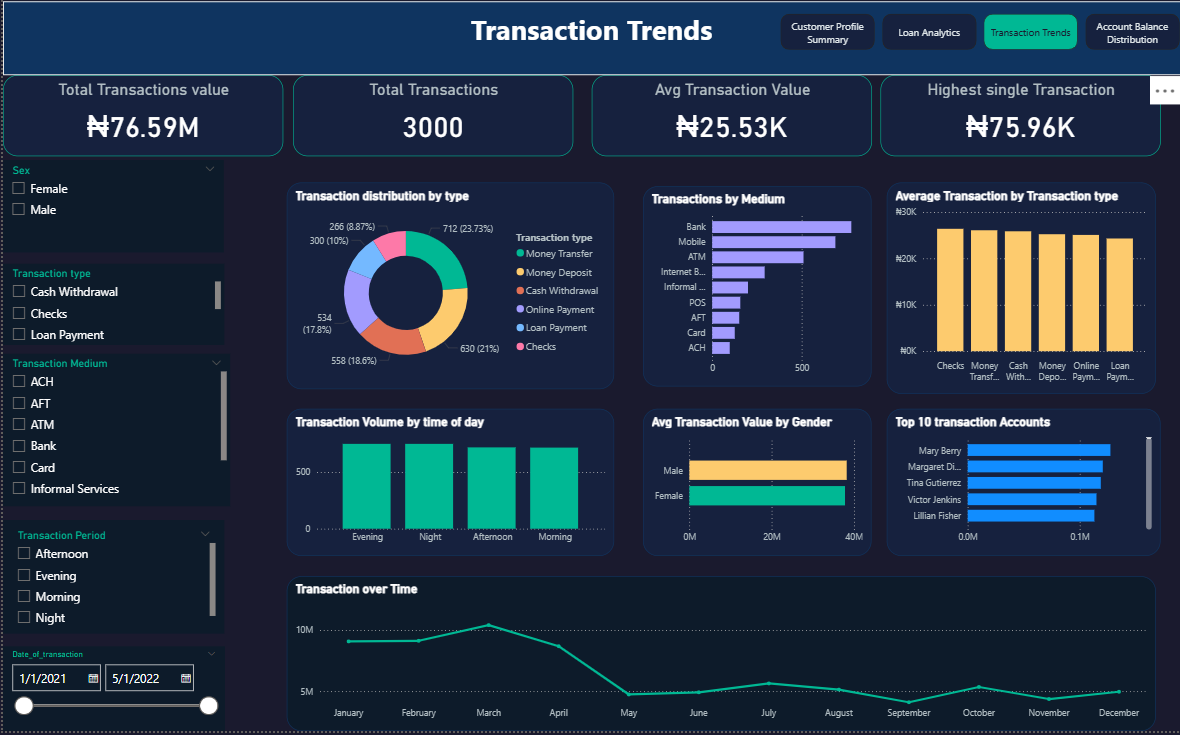

Layout of this report page (visuals, bound fields, positions):
{"tool":"powerbi","page":{"name":"Transaction Trends","canvas":[1600,1000],"ordinal":2},"visuals":[{"type":"card","title":"Total Transactions value","fields":{"Values":["Transaction.Total Transaction Amount"]},"box":[0,108.5,380.9,110.6],"z":0},{"type":"card","title":"Total Transactions","fields":{"Values":["Transaction.Number of Transactions"]},"box":[393.6,108.5,380.9,110.6],"z":1000},{"type":"card","title":"Avg Transaction Value","fields":{"Values":["Transaction.Average Transaction"]},"box":[800,108.5,380.9,110.6],"z":2000},{"type":"card","title":"Highest single Transaction","fields":{"Values":["Transaction.Highest Transaction"]},"box":[1191.5,108.5,380.9,110.6],"z":3000},{"type":"donutChart","title":"Transaction distribution by type","fields":{"Category":["Transaction.Transaction type"],"Y":["CountNonNull(Transaction.Transaction_id)"]},"box":[385.1,255.3,444.7,280.9],"z":4000},{"type":"clusteredBarChart","title":"Transactions by Medium","fields":{"Category":["Transaction.Transaction Medium"],"Y":["CountNonNull(Transaction.Transaction_id)"]},"box":[870.2,259.6,310.6,272.3],"z":5000},{"type":"clusteredColumnChart","title":"Transaction Volume by time of day","fields":{"Category":["Transaction time.Transaction Period"],"Y":["CountNonNull(Transaction.Transaction_id)"]},"box":[385.1,561.7,444.7,200],"z":6000},{"type":"barChart","title":"Avg Transaction Value by Gender","fields":{"Category":["Customer.Sex"],"Y":["Sum(Transaction.Amount)"]},"box":[870.2,561.7,310.6,200],"z":7000},{"type":"lineChart","title":"Transaction over  Time","fields":{"Category":["Transaction.Date_of_transaction.Variation.Date Hierarchy.Year","Transaction.Date_of_transaction.Variation.Date Hierarchy.Quarter","Transaction.Date_of_transaction.Variation.Date Hierarchy.Month","Transaction.Date_of_transaction.Variation.Date Hierarchy.Day"],"Y":["Sum(Transaction.Amount)"]},"box":[385.1,789.4,1180.9,210.6],"z":8000},{"type":"clusteredBarChart","title":"Top 10 transaction  Accounts","fields":{"Category":["Customer.Full name"],"Y":["Sum(Transaction.Amount)"]},"box":[1200,561.7,372.3,200],"z":9000},{"type":"columnChart","fields":{"Y":["Transaction.Average Transaction"],"Category":["Transaction.Transaction type"]},"box":[1200,255.3,366,287.2],"z":10000},{"type":"slicer","fields":{"Values":["Customer.Sex"]},"box":[0,223.4,300,125.5],"z":11000},{"type":"slicer","fields":{"Values":["Transaction.Date_of_transaction"]},"box":[0,884.9,300.6,115.5],"z":12000},{"type":"slicer","fields":{"Values":["Transaction.Transaction type"]},"box":[0,365.2,300.6,110.4],"z":13000},{"type":"slicer","fields":{"Values":["Transaction.Transaction Medium"]},"box":[0,487.4,309.1,207.2],"z":14000},{"type":"slicer","fields":{"Values":["Transaction time.Transaction Period"]},"box":[0,713.3,300.6,154.6],"z":15000},{"type":"textbox","box":[0,8.5,1600,100],"z":16000},{"type":"pageNavigator","box":[1056.4,25.5,543.5,49.3],"z":16001}]}

Visuals, with their boxes in screenshot pixels (x1, y1, x2, y2), scaled from the page's 1600x1000 canvas onto the 1180x735 screenshot:
"Total Transactions value" card: x1=0, y1=80, x2=281, y2=161
"Total Transactions" card: x1=290, y1=80, x2=571, y2=161
"Avg Transaction Value" card: x1=590, y1=80, x2=871, y2=161
"Highest single Transaction" card: x1=879, y1=80, x2=1160, y2=161
"Transaction distribution by type" donutChart: x1=284, y1=188, x2=612, y2=394
"Transactions by Medium" clusteredBarChart: x1=642, y1=191, x2=871, y2=391
"Transaction Volume by time of day" clusteredColumnChart: x1=284, y1=413, x2=612, y2=560
"Avg Transaction Value by Gender" barChart: x1=642, y1=413, x2=871, y2=560
"Transaction over  Time" lineChart: x1=284, y1=580, x2=1155, y2=734
"Top 10 transaction  Accounts" clusteredBarChart: x1=885, y1=413, x2=1160, y2=560
columnChart - Transaction.Average Transaction x Transaction.Transaction type: x1=885, y1=188, x2=1155, y2=399
slicer - Customer.Sex: x1=0, y1=164, x2=221, y2=256
slicer - Transaction.Date_of_transaction: x1=0, y1=650, x2=222, y2=734
slicer - Transaction.Transaction type: x1=0, y1=268, x2=222, y2=350
slicer - Transaction.Transaction Medium: x1=0, y1=358, x2=228, y2=511
slicer - Transaction time.Transaction Period: x1=0, y1=524, x2=222, y2=638
textbox: x1=0, y1=6, x2=1179, y2=80
pageNavigator: x1=779, y1=19, x2=1179, y2=55
